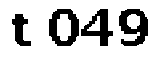0: (44, 6, 80, 52)
4: (81, 7, 115, 51)
9: (117, 6, 151, 50)
t: (8, 9, 38, 52)
